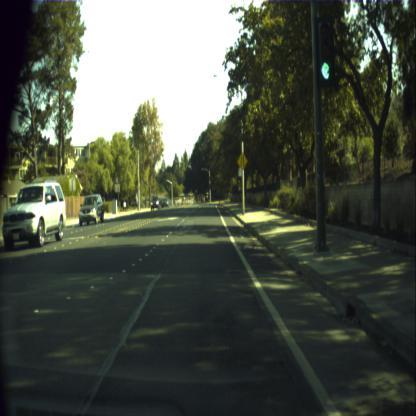Green: (317, 19, 334, 87)
